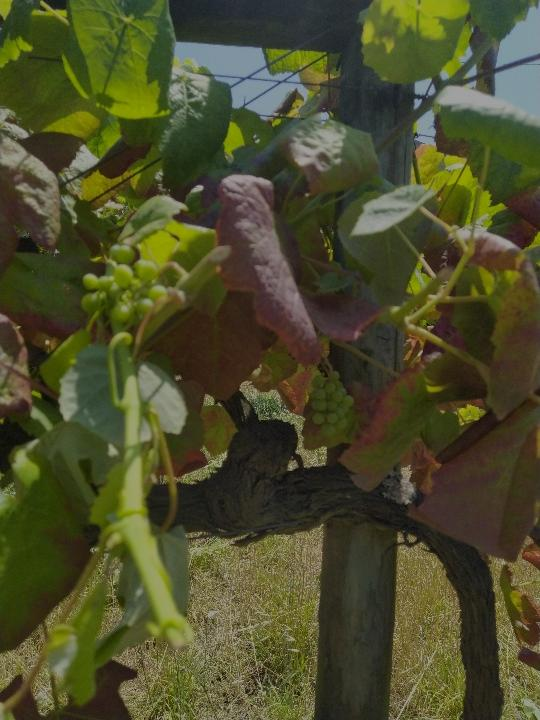grape: (80, 243, 167, 335), (303, 368, 355, 442)
